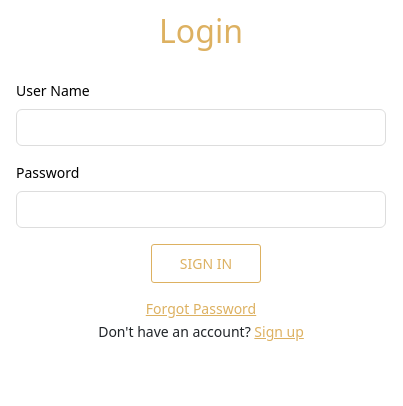
Test: Invalid username password
Step 1. Click the button → [206, 264], box left=151, top=244, right=261, bottom=283
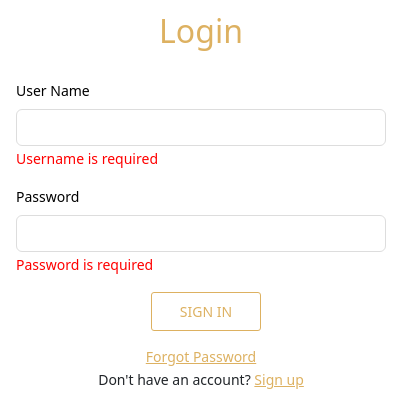
Expected: the text "Username is required" is shown, left=16, top=149, right=158, bottom=168
Expected: the text "Password is required" is shown, left=16, top=255, right=153, bottom=274
